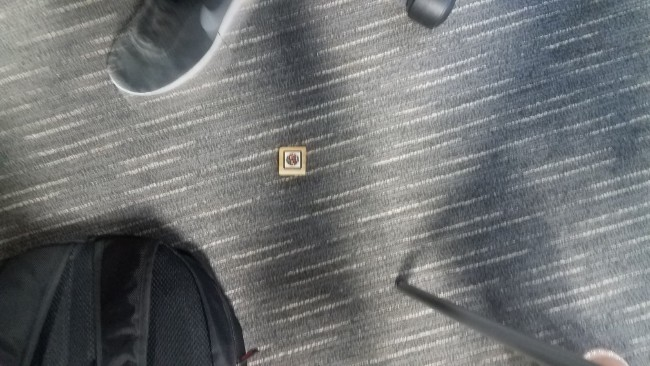cookie: (278, 146, 305, 176)
